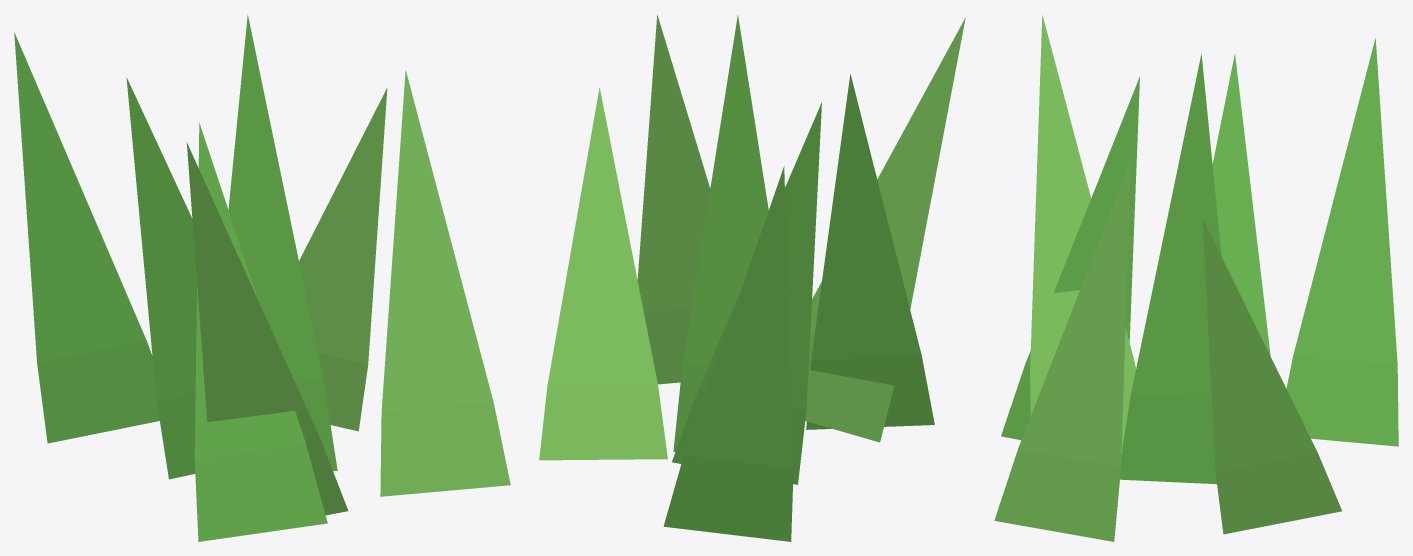
Rendered from GrassTuft_1.glb.
3 renders of one model, left to right at view 1: azimuth 30°, elevation 25°; view 2: azimuth 150°, elevation 25°; view 3: azimuth 270°, elevation 25°, orthographic. The views are drawn at different scales.
Parts seen in each view (by area): view 1: GrassTuft_1; view 2: GrassTuft_1; view 3: GrassTuft_1.
Boxes of the visible parts, x1,y1,x2,y2 form: GrassTuft_1: [14, 14, 510, 541]; GrassTuft_1: [539, 15, 965, 541]; GrassTuft_1: [994, 15, 1398, 541].
Bounding box in the file's own units: 1.37 × 2 × 1.72.
Materials: 1 (1 with a texture image).
